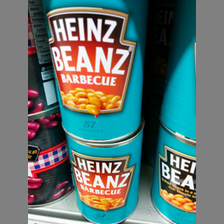beans: (41, 1, 149, 140), (59, 133, 148, 224)
